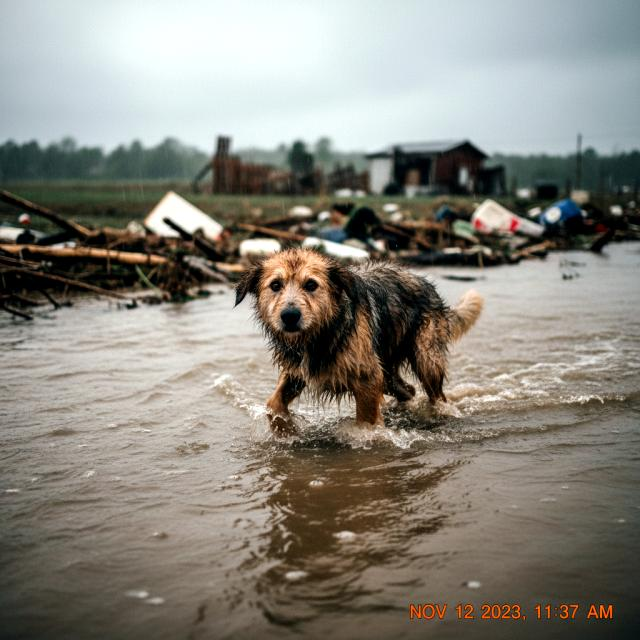dog: (226, 236, 495, 454)
